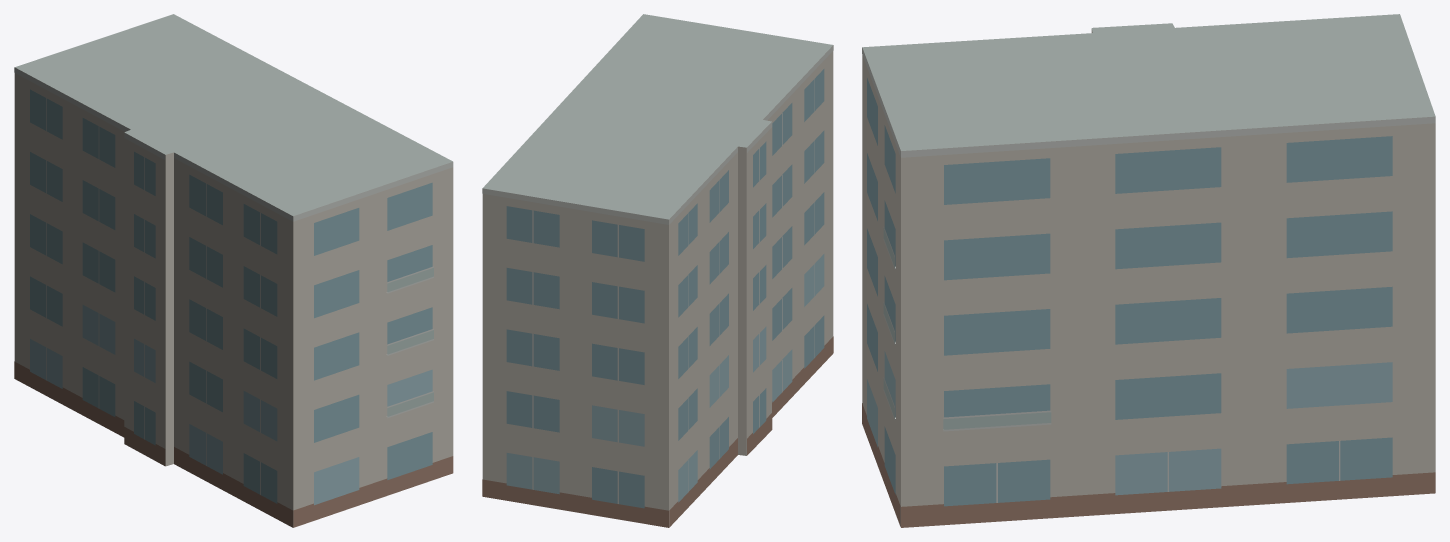
File: survey-upis-32708395.glb
3 renders of one model, left to right at view 1: azimuth 30°, elevation 25°; view 2: azimuth 150°, elevation 25°; view 3: azimuth 270°, elevation 25°, orthographic. The views are drawn at different scales.
Parts seen in each view (by area): view 1: survey-upis-32708395.tmp; view 2: survey-upis-32708395.tmp; view 3: survey-upis-32708395.tmp.
Part boxes in pixels (x1,y1,x2,y2): survey-upis-32708395.tmp: (14,14,453,527); survey-upis-32708395.tmp: (482,14,833,527); survey-upis-32708395.tmp: (862,14,1435,527).
Size of the model in its own units: 10.78 by 13.8 by 19.05.
